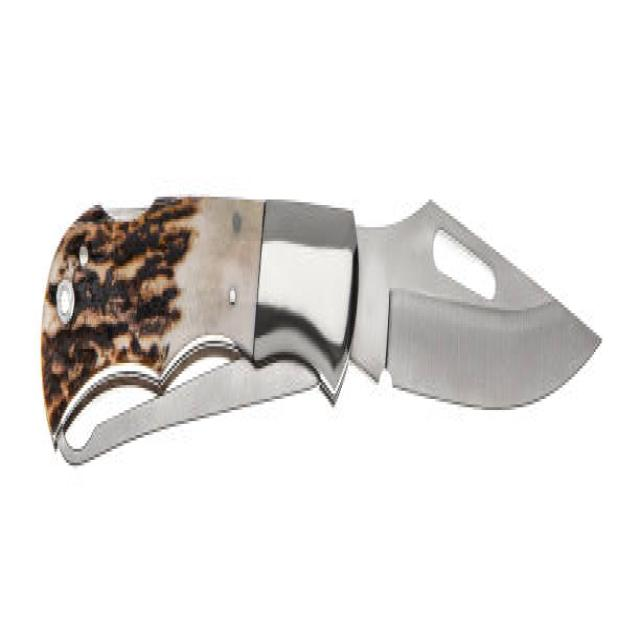knife: (34, 175, 613, 473)
